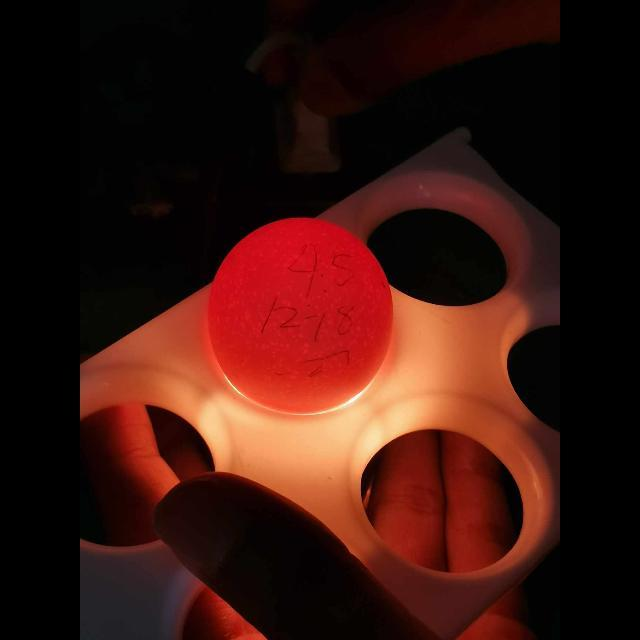Infertile: (210, 215, 398, 409)
